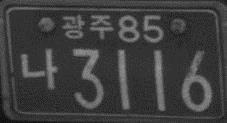1: (116, 47, 133, 112), (151, 48, 167, 112)
3: (70, 46, 105, 108)
5: (142, 14, 164, 43)
6: (180, 47, 213, 112)
8: (118, 14, 139, 43)
광주_O: (61, 13, 113, 41)
나: (20, 46, 57, 90)
